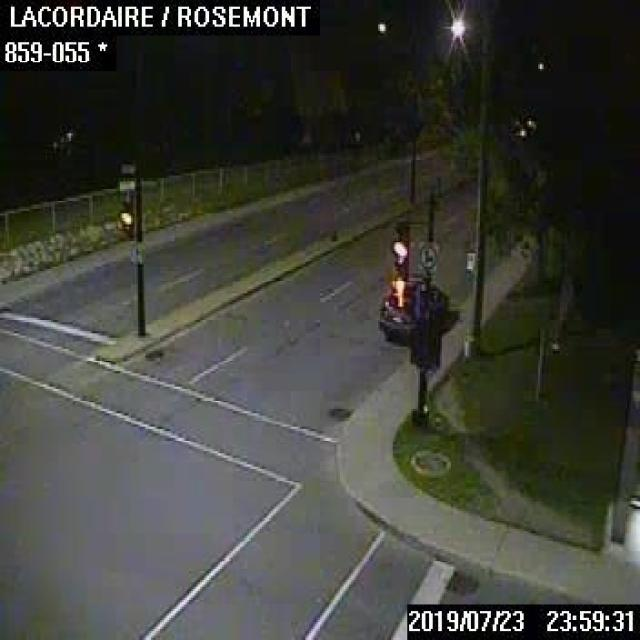vehicle: (377, 282, 448, 339)
